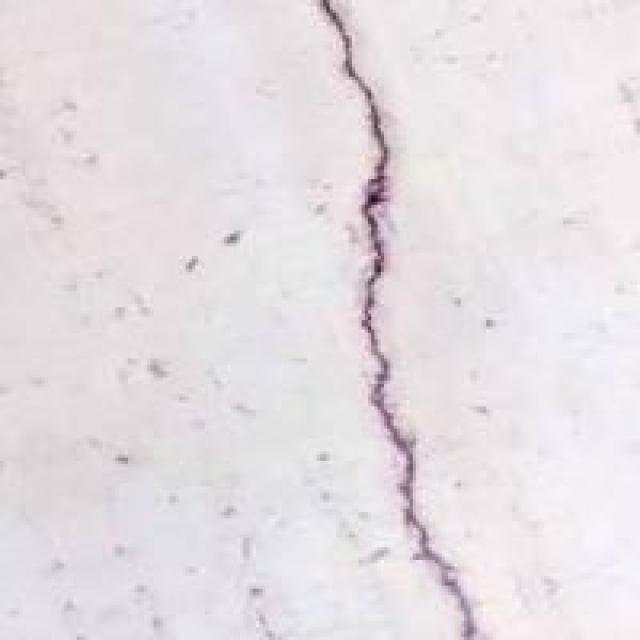Crack: (256, 0, 499, 637)
